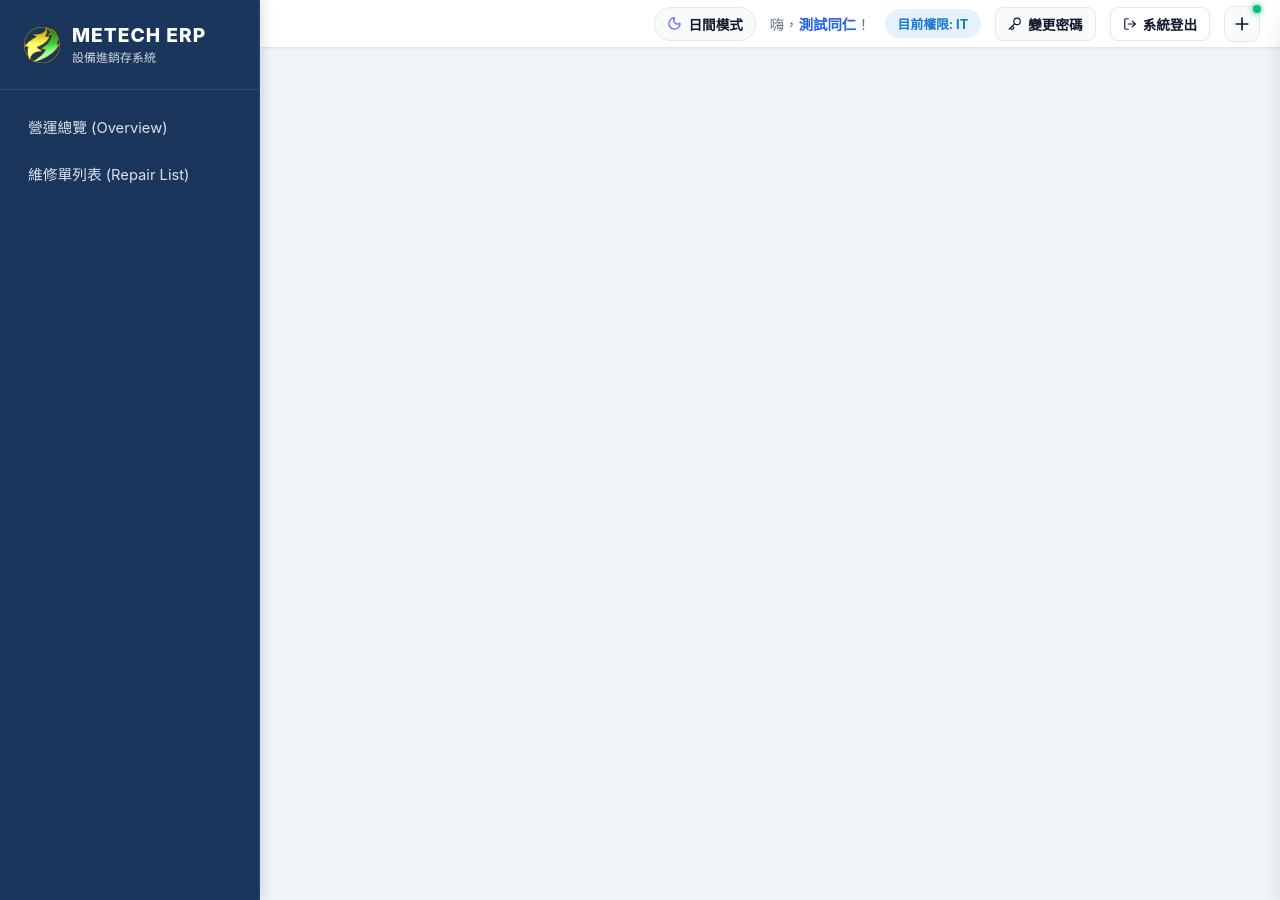
Scenario: 使用者變更密碼功能 (Change Password) 測試 › 伺服器回報原密碼不正確時應顯示錯誤且不視為成功
Click the button "變更密碼" at (1046, 24), box top-left (995, 6), bottom-right (1096, 40)
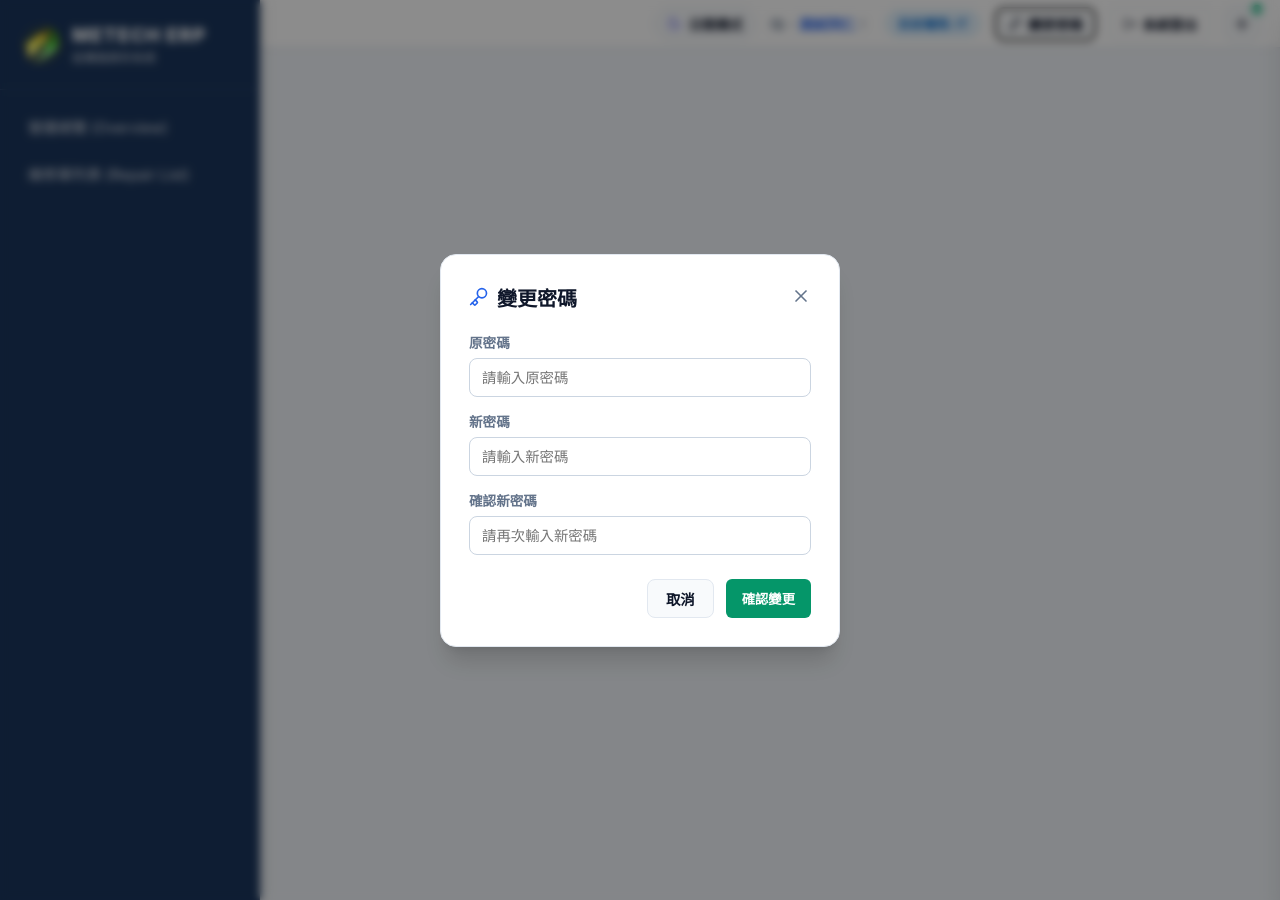
Type "wrongPassword" into the password field with placeholder "請輸入原密碼" at (640, 377), box top-left (469, 358), bottom-right (811, 396)
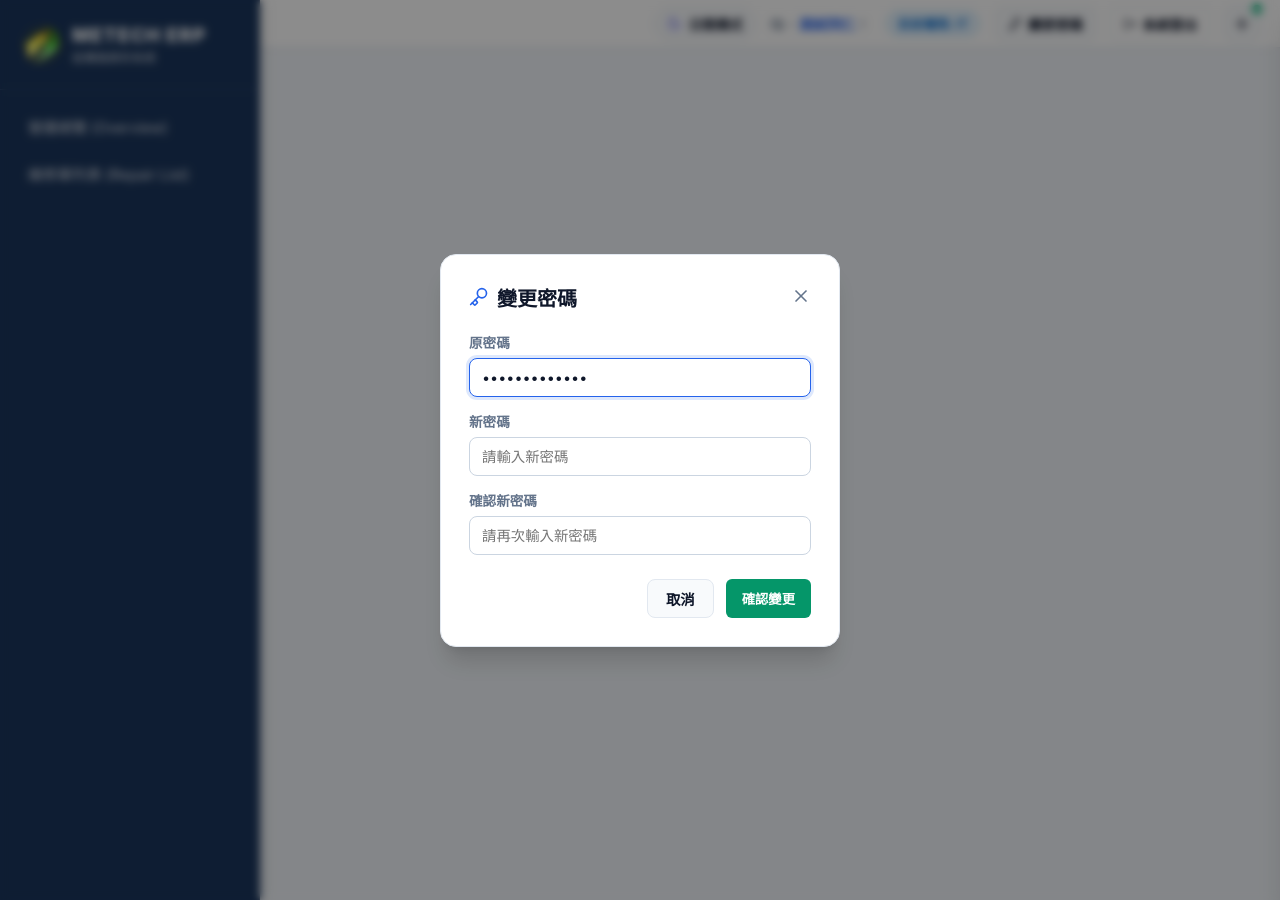
Type "newPassword123" into the password field with placeholder "請輸入新密碼" at (640, 456), box top-left (469, 436), bottom-right (811, 476)
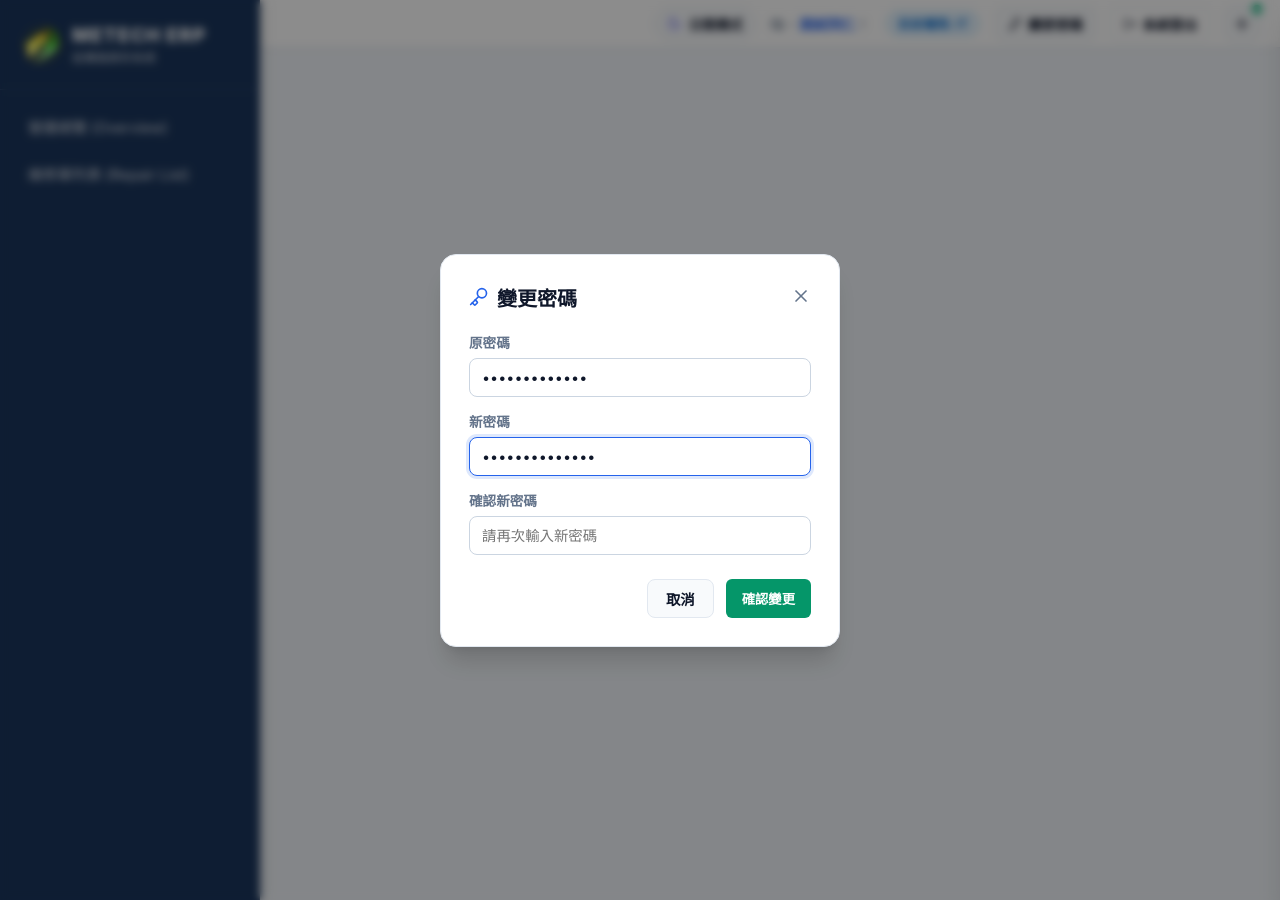
Type "newPassword123" into the password field with placeholder "請再次輸入新密碼" at (640, 535), box top-left (469, 516), bottom-right (811, 554)
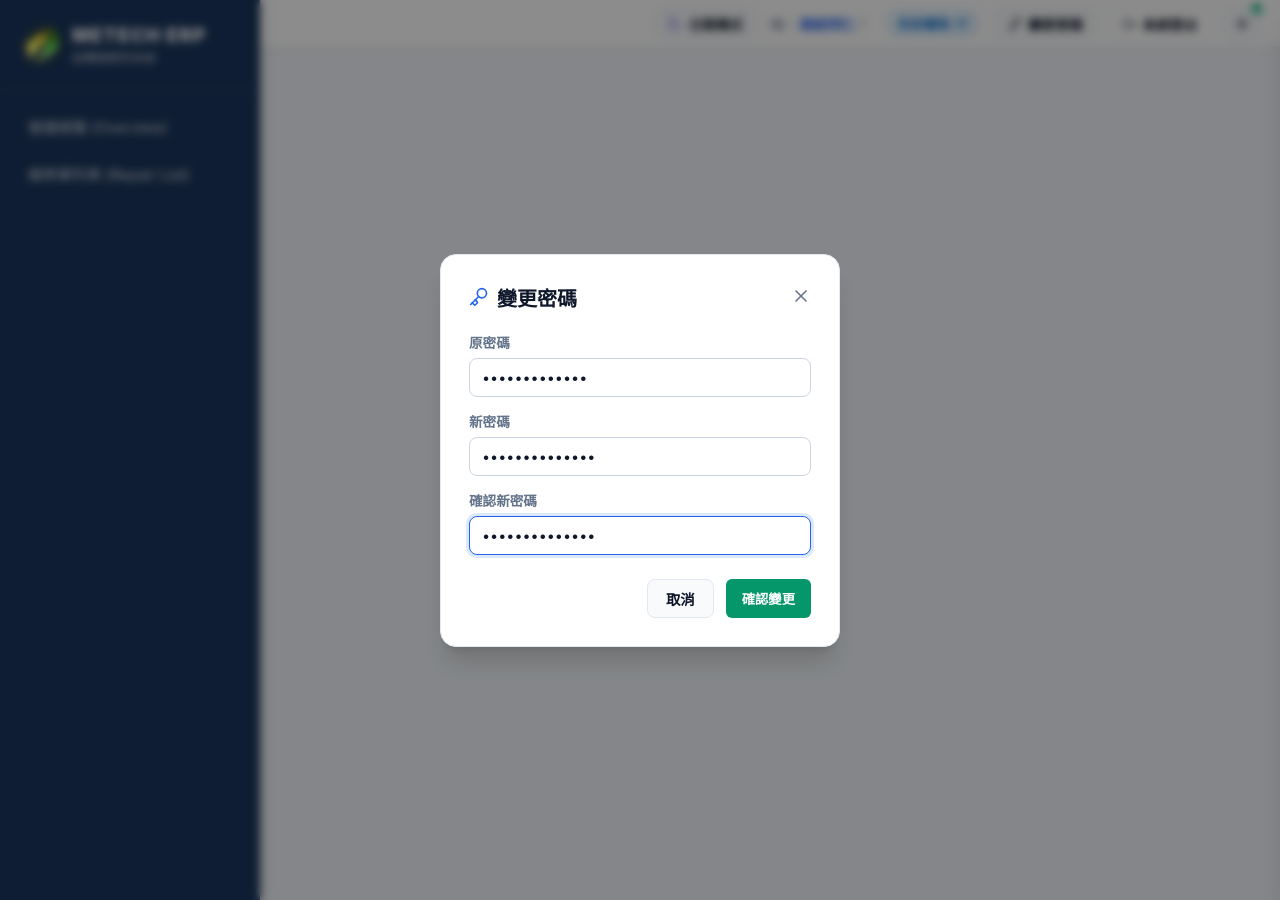
Click the button "確認變更" at (768, 598), box top-left (726, 578), bottom-right (811, 618)
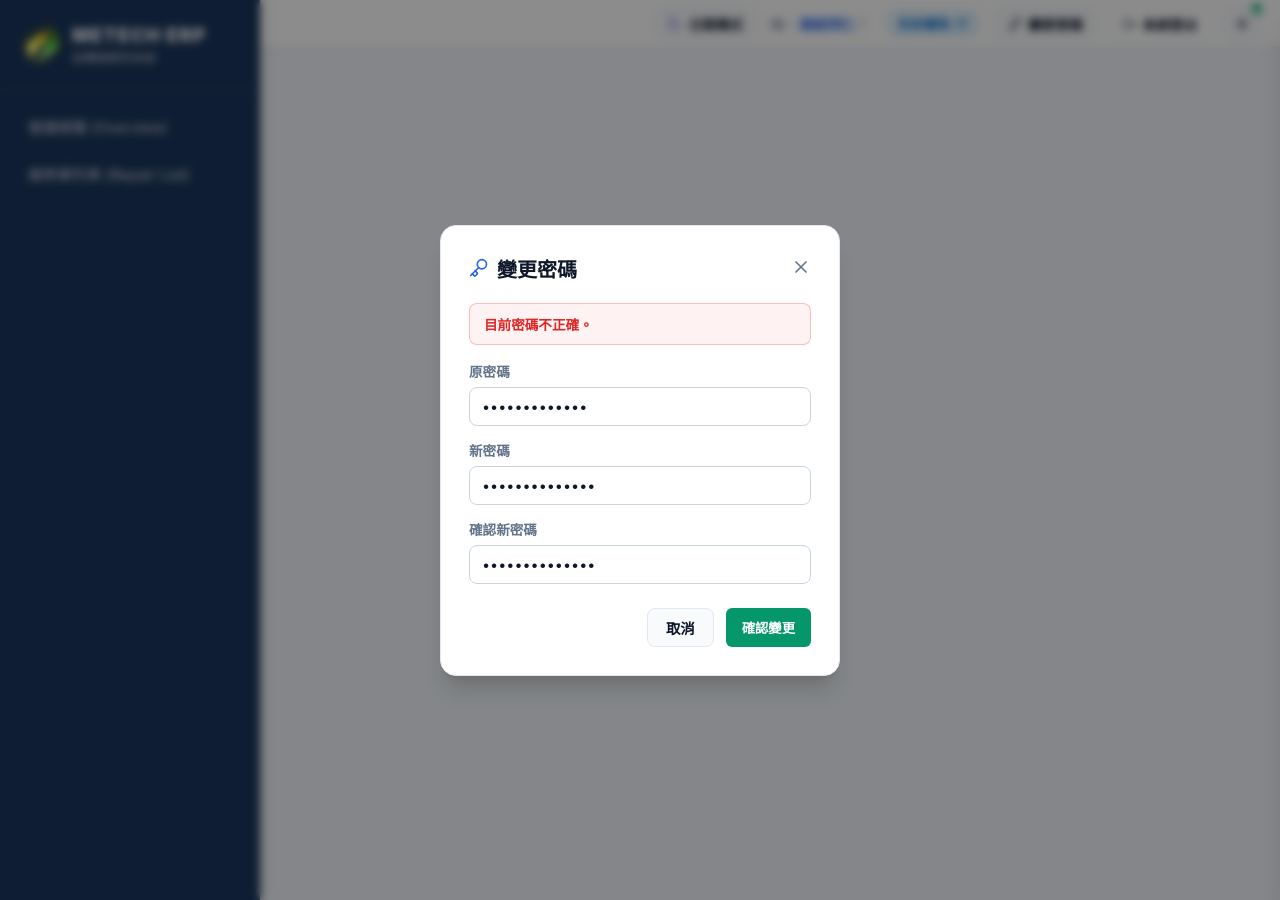
expect the text "目前密碼不正確。" is shown: met, box top-left (469, 302), bottom-right (811, 344)
